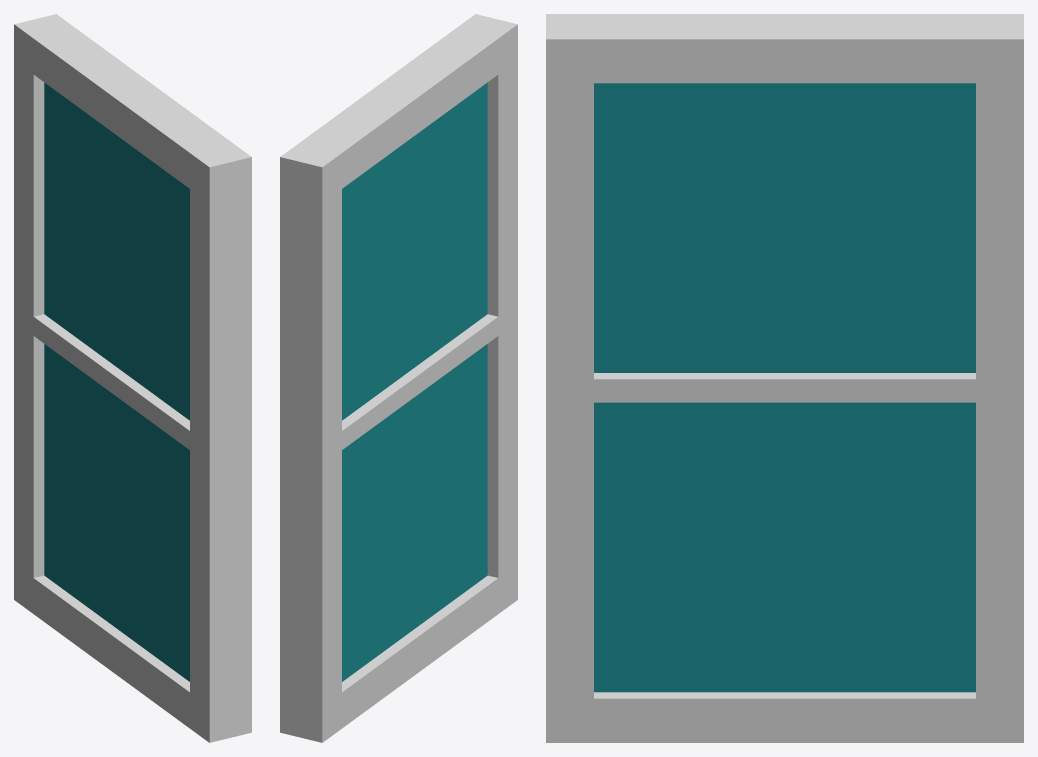
File: SmallWindow.fbx
The picture shows the model from 3 angles, left to right: view 1: azimuth 30°, elevation 25°; view 2: azimuth 150°, elevation 25°; view 3: azimuth 270°, elevation 25°; orthographic projection. The views are drawn at different scales.
Parts seen in each view (by area): view 1: SmallWindow; view 2: SmallWindow; view 3: SmallWindow.
Part boxes in pixels (bbox=[...]): SmallWindow: bbox=[14, 14, 251, 742]; SmallWindow: bbox=[280, 14, 517, 742]; SmallWindow: bbox=[546, 14, 1023, 742].
Size of the model in its own units: 10 by 130 by 80.
